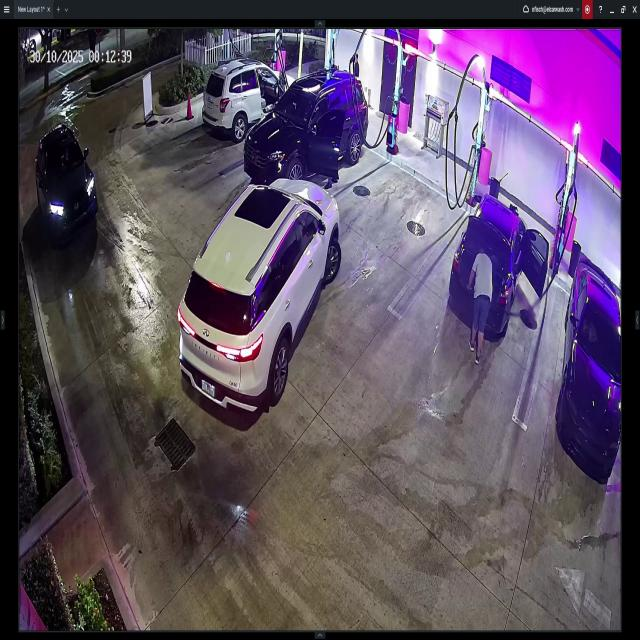Car: (180, 177, 341, 418), (449, 183, 548, 340), (245, 68, 366, 194), (556, 252, 619, 479), (204, 51, 296, 152), (31, 121, 96, 248)
